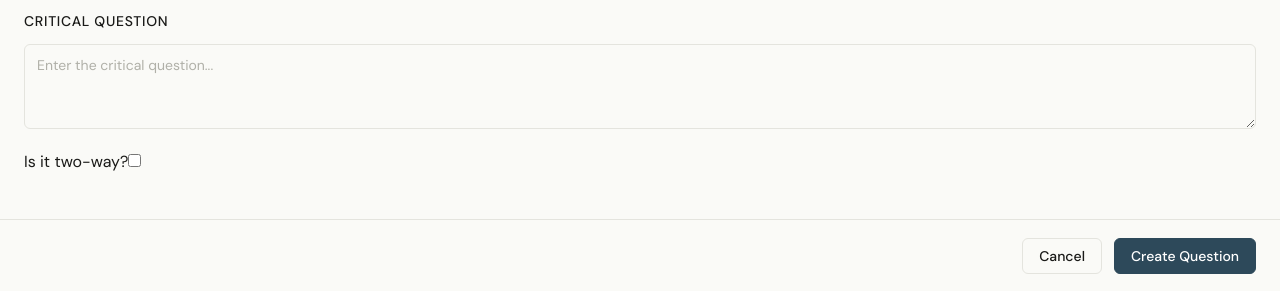
it: AddCriticalQuestionForm › disables buttons while submitting
The width and height of the screenshot is (1280, 291).
Type "Some question?" into the text box labelled "Critical question" at (640, 87), box [24, 44, 1256, 129]
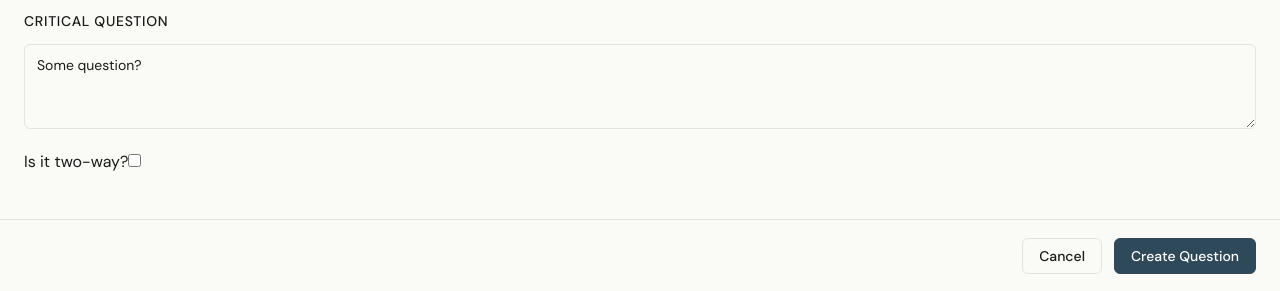
Click the button "Create Question" at (1185, 256), box [1114, 238, 1256, 274]
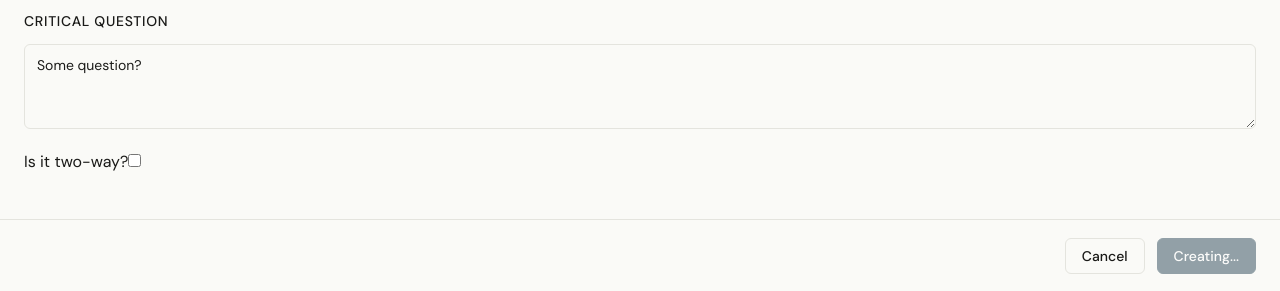
expect the button "Creating..." is disabled: met, box [1157, 238, 1256, 274]
expect the button "Cancel" is disabled: met, box [1065, 238, 1145, 274]
